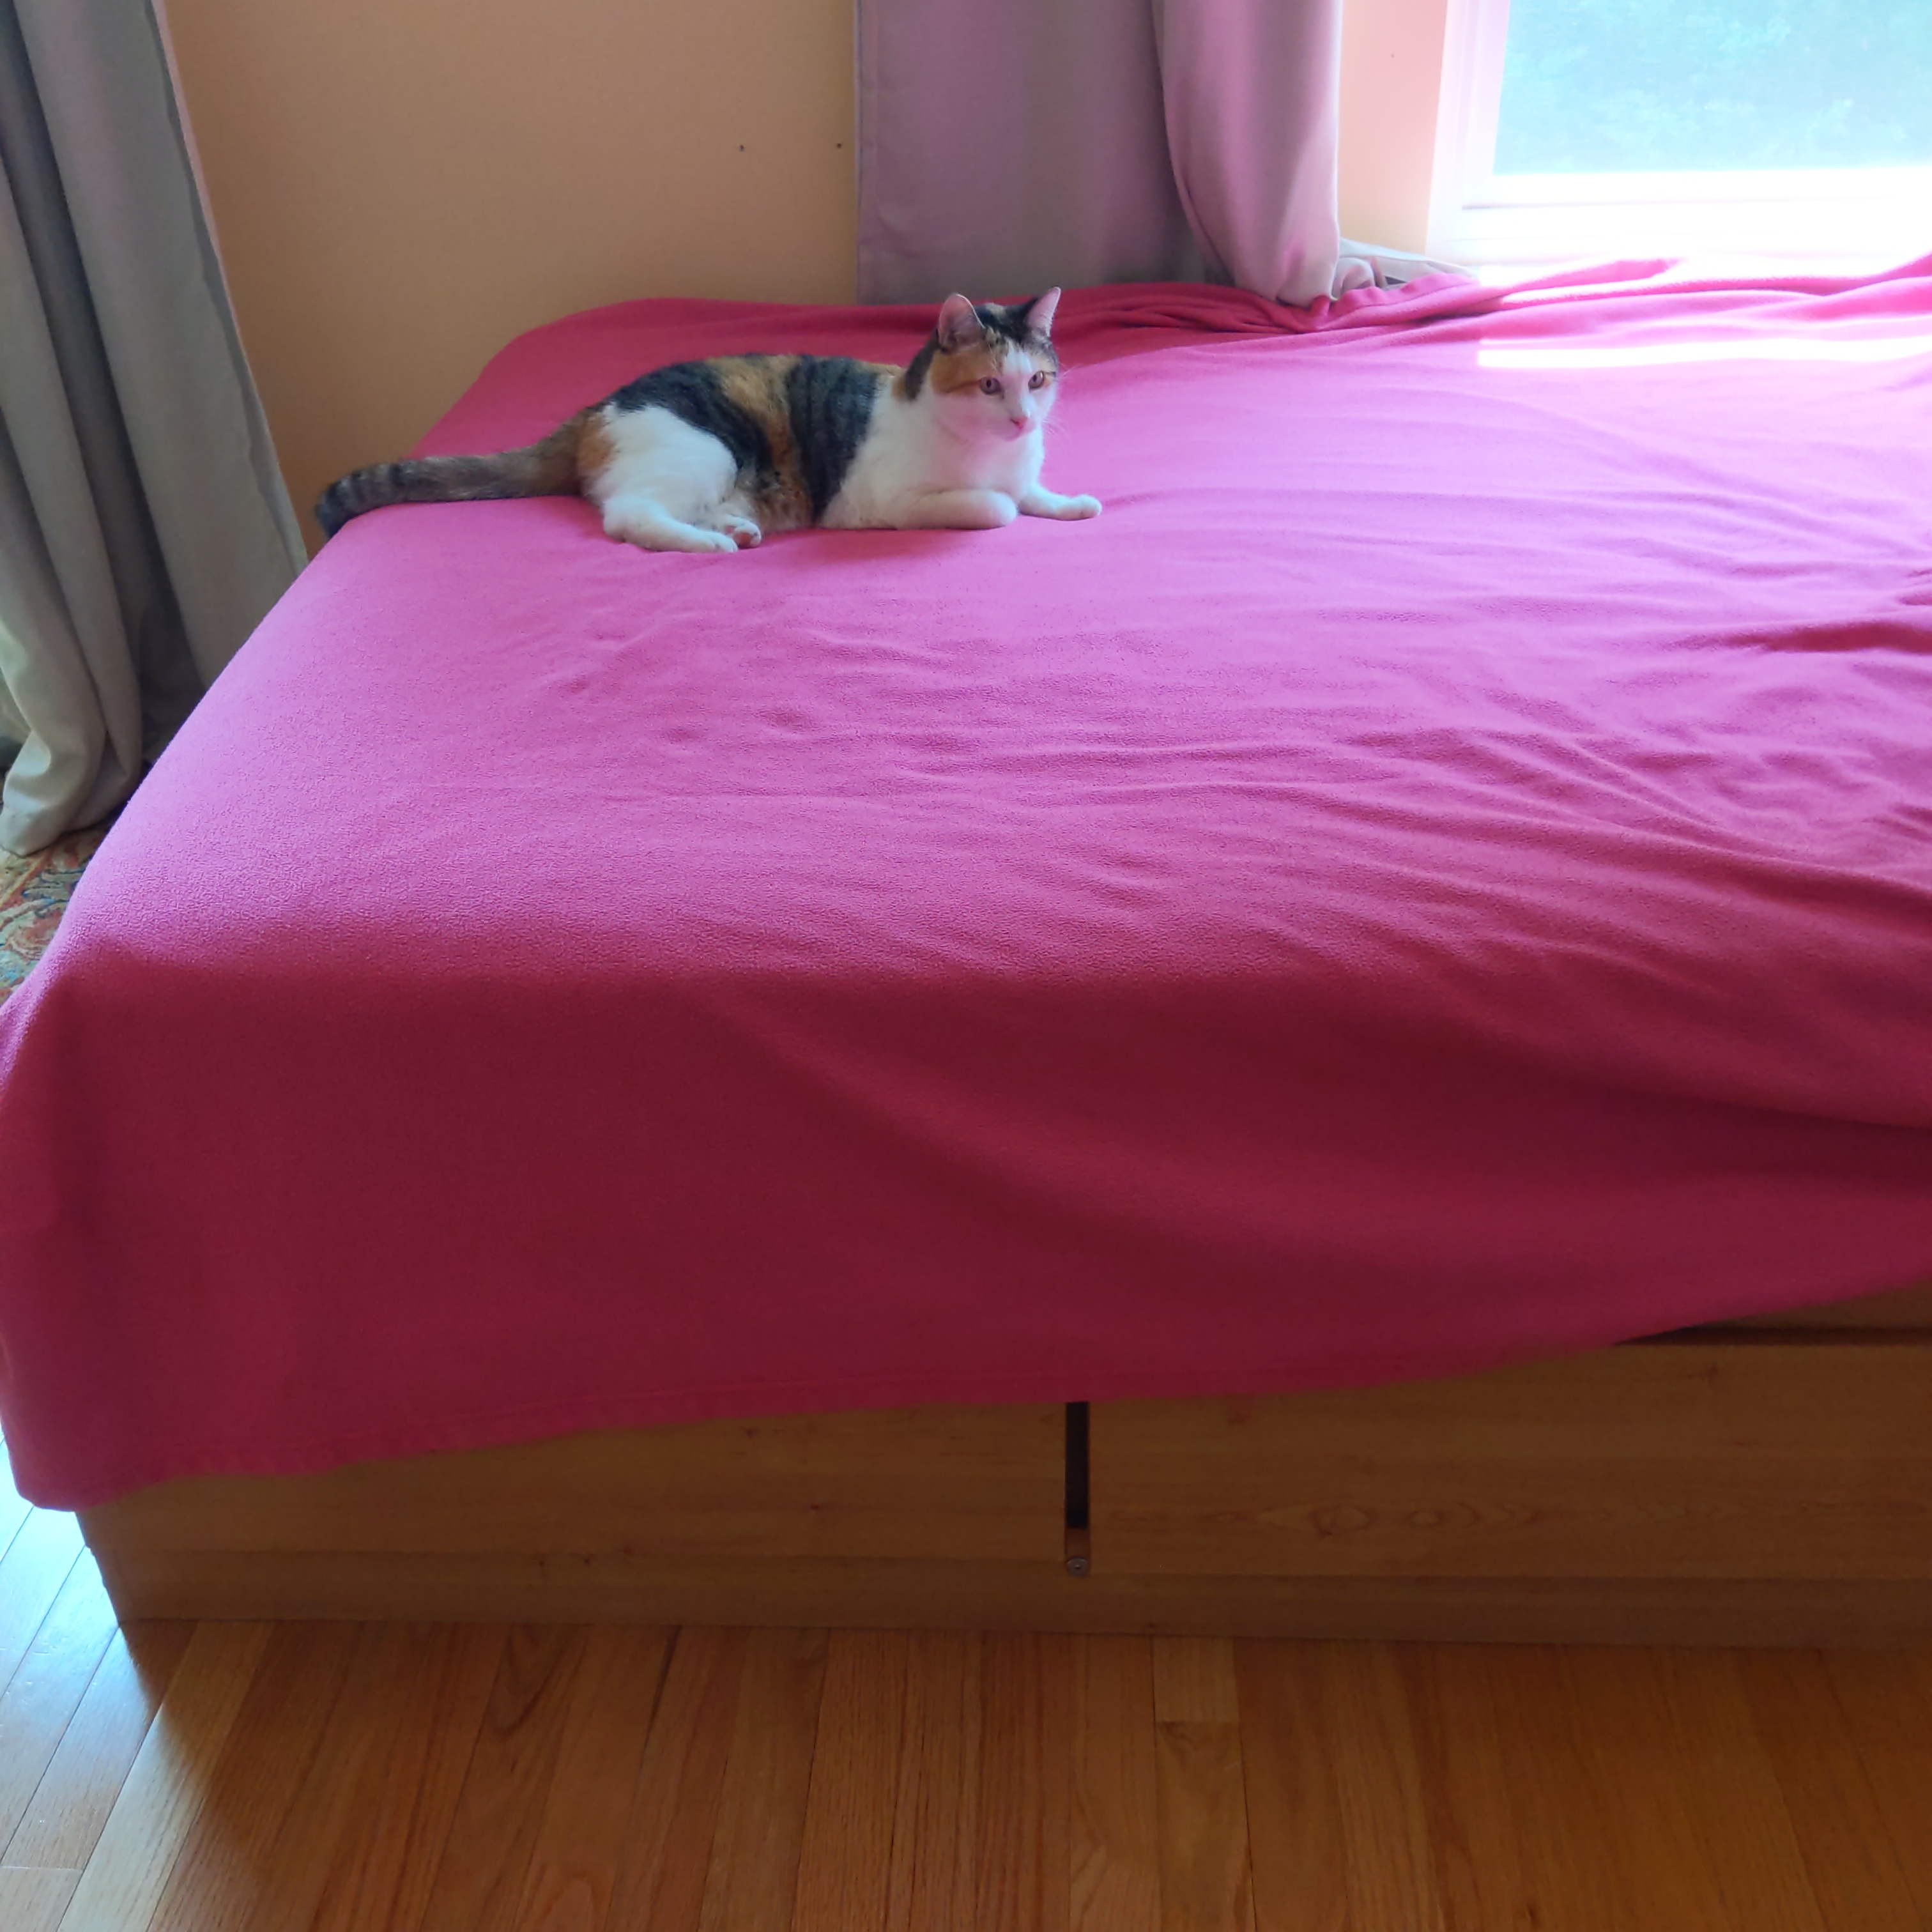Calico: (313, 288, 1102, 552)
